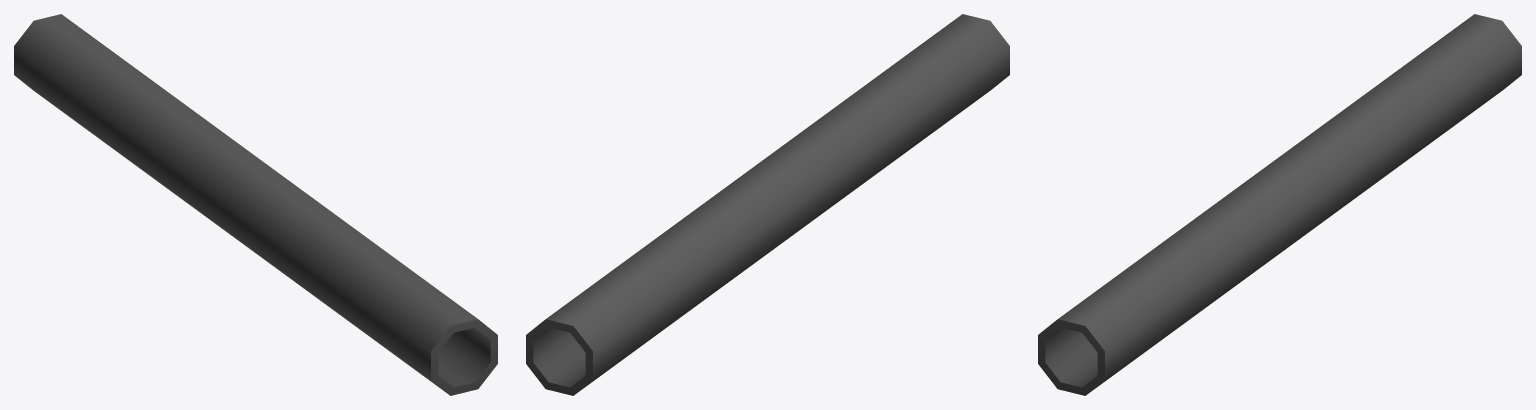
Rendered from Pipe_C_1_4.fbx.
The picture shows the model from 3 angles, left to right: view 1: azimuth 30°, elevation 25°; view 2: azimuth 150°, elevation 25°; view 3: azimuth 330°, elevation 25°; orthographic projection.
Visible parts, largest first — view 1: Pipe_C_1_4; view 2: Pipe_C_1_4; view 3: Pipe_C_1_4.
Boxes of the visible parts, <box> form: Pipe_C_1_4: <box>14,14,497,395</box>; Pipe_C_1_4: <box>526,14,1009,395</box>; Pipe_C_1_4: <box>1038,14,1521,395</box>.
Size of the model in its own units: 51.05 by 51.05 by 551.
